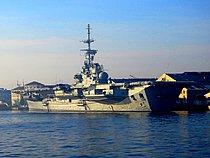MIL_Ship: (25, 46, 192, 114)
